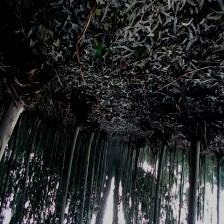trunk: (58, 121, 80, 219), (153, 145, 167, 221), (81, 131, 95, 205), (188, 141, 200, 221), (216, 160, 221, 219)
